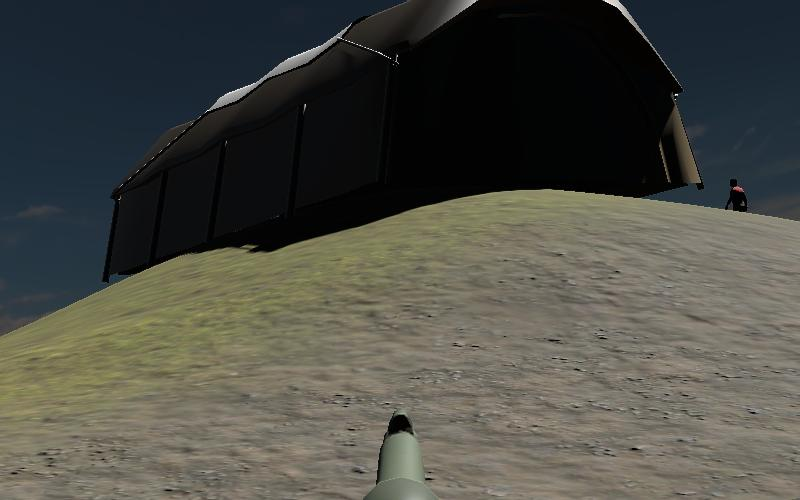Human: (722, 175, 752, 220)
